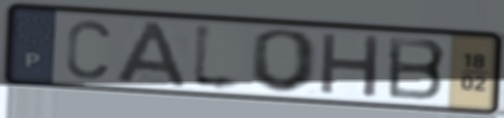A: (113, 19, 191, 89)
B: (384, 34, 449, 103)
C: (63, 17, 114, 81)
H: (317, 30, 384, 100)
L: (188, 18, 247, 96)
O: (247, 27, 323, 95)
